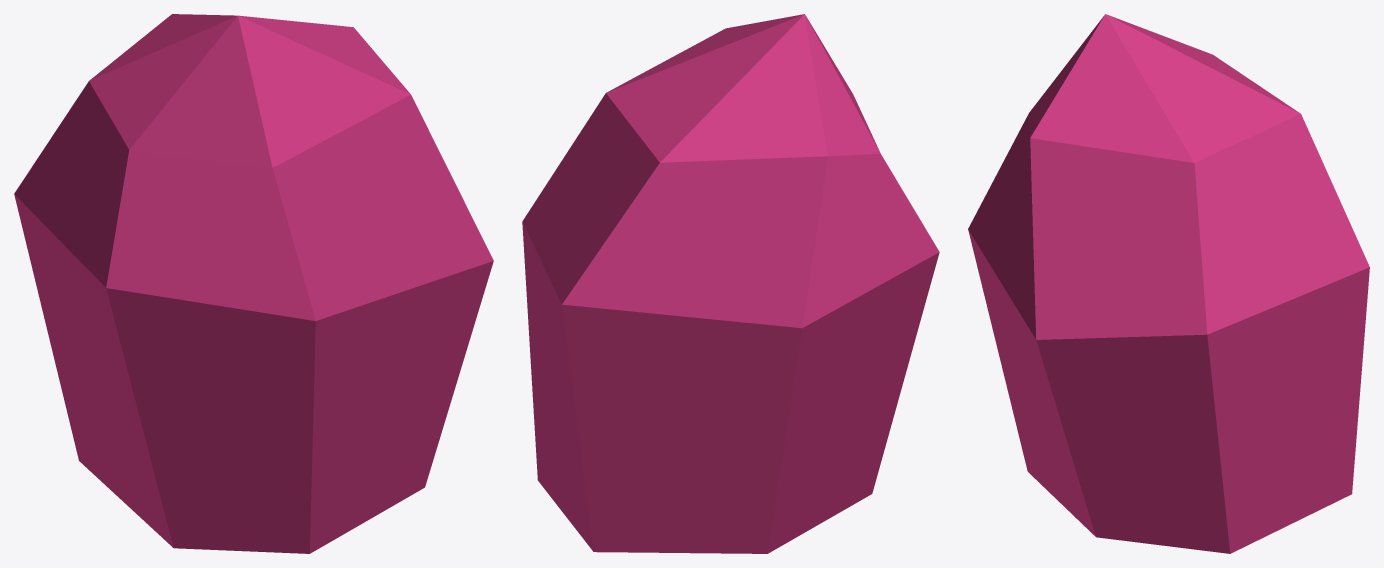
The model's file is Object_pink.gltf.
3 renders of one model, left to right at view 1: azimuth 30°, elevation 25°; view 2: azimuth 150°, elevation 25°; view 3: azimuth 270°, elevation 25°, orthographic. The views are drawn at different scales.
Visible parts, largest first — view 1: Plane; view 2: Plane; view 3: Plane.
Part boxes in pixels (box(x1,y1,x2,y2)): Plane: box(14, 14, 493, 553); Plane: box(522, 14, 939, 553); Plane: box(968, 14, 1369, 553).
Bounding box in the file's own units: 4.75 × 5.95 × 4.86.
